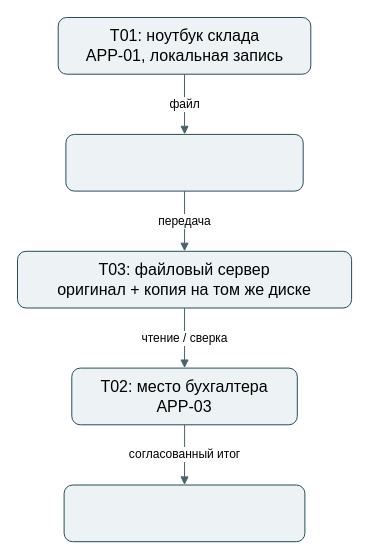
Some shapes in this 370 by 560 pixel diagram are drawn without their labels. Here are the shapes that lost their labels. From the top down, the box of each, then its label:
(65, 133, 303, 191): T04: канал склада эпизод отказа 40 минут
(63, 484, 305, 542): APP-04: внешний контур устройство не раскрыто
